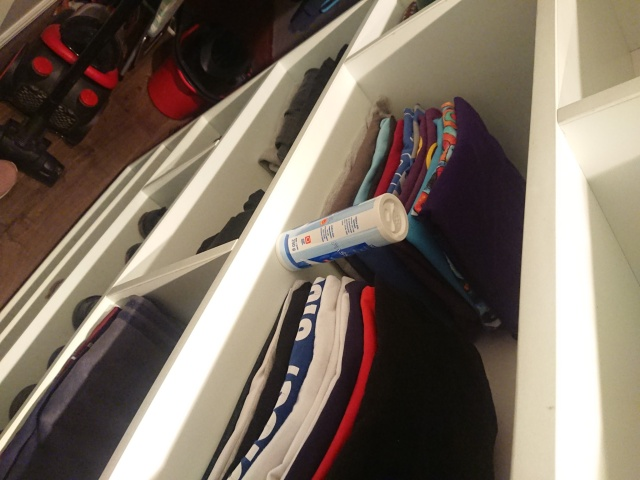Solana Pag Fine Sea Salt 250g: (273, 190, 411, 274)
